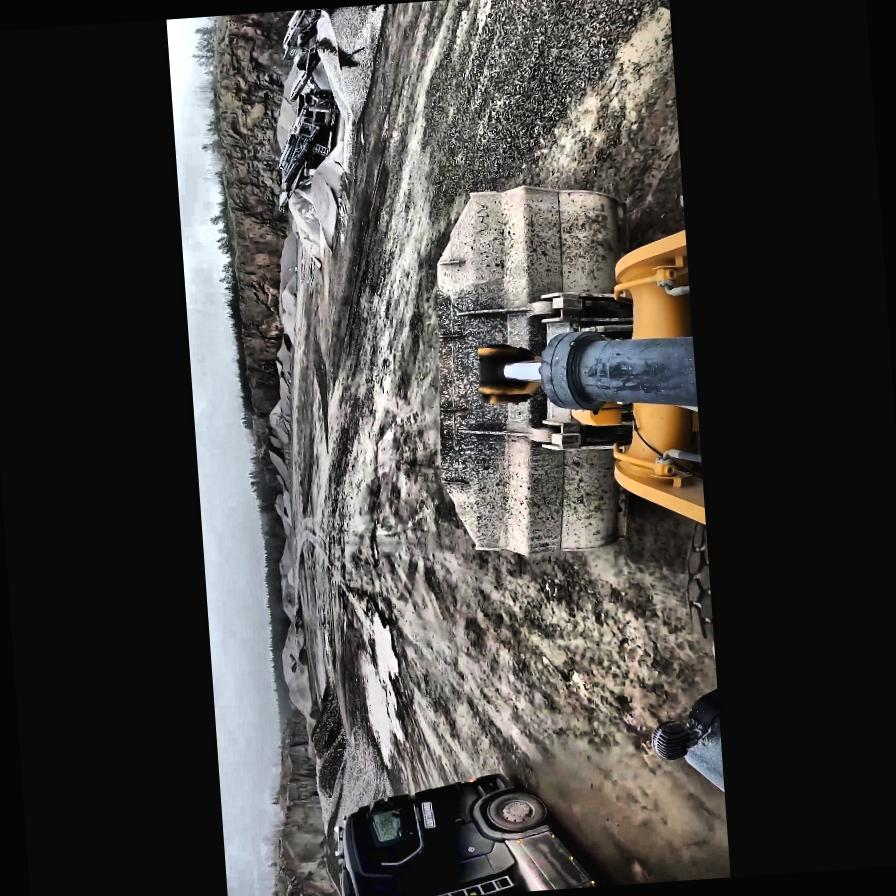anchor: (474, 341, 544, 402)
pile of gravel: (310, 4, 395, 174), (252, 258, 308, 514), (316, 726, 392, 843), (287, 138, 352, 264), (272, 41, 330, 140), (304, 674, 350, 796), (270, 72, 302, 156), (274, 229, 302, 324), (272, 333, 293, 390), (290, 598, 304, 654), (272, 494, 290, 533), (286, 566, 293, 586)
